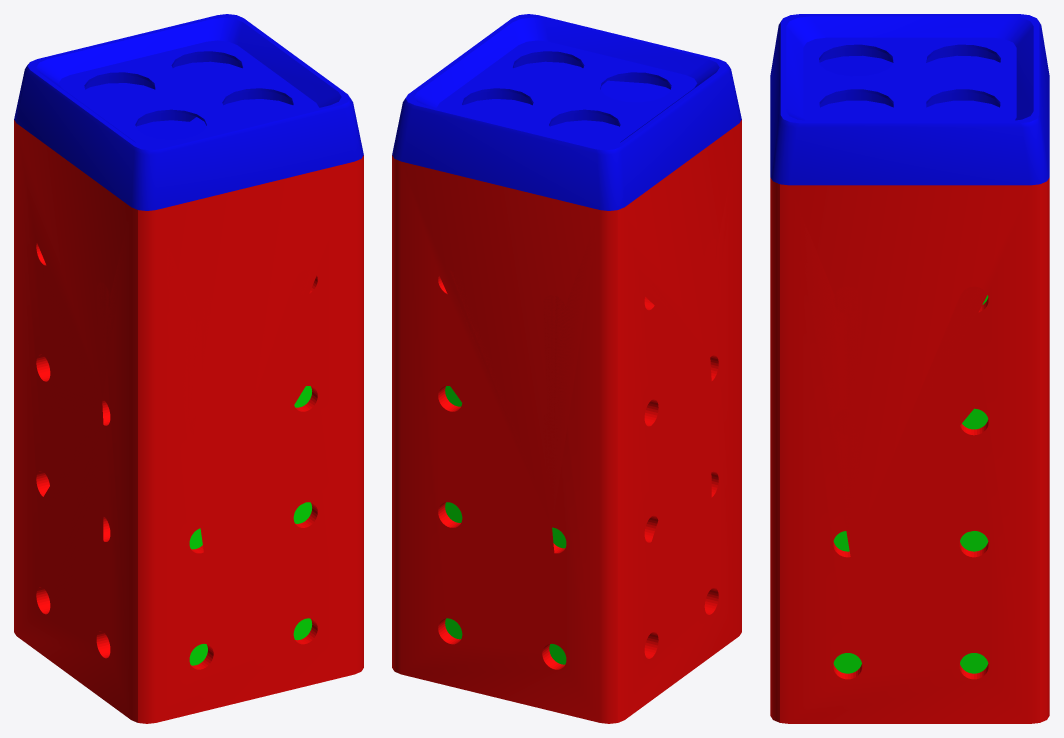
The model's file is Trashcan3.fbx.
3 renders of one model, left to right at view 1: azimuth 30°, elevation 25°; view 2: azimuth 150°, elevation 25°; view 3: azimuth 270°, elevation 25°, orthographic. The views are drawn at different scales.
Visible parts, largest first — view 1: Cube.002; view 2: Cube.002; view 3: Cube.002.
Boxes of the visible parts, box(x1,y1,x2,y2) form: Cube.002: box(14, 14, 363, 723); Cube.002: box(392, 14, 741, 723); Cube.002: box(770, 14, 1049, 723).
Size of the model in its own units: 38.18 by 89.99 by 38.18.
